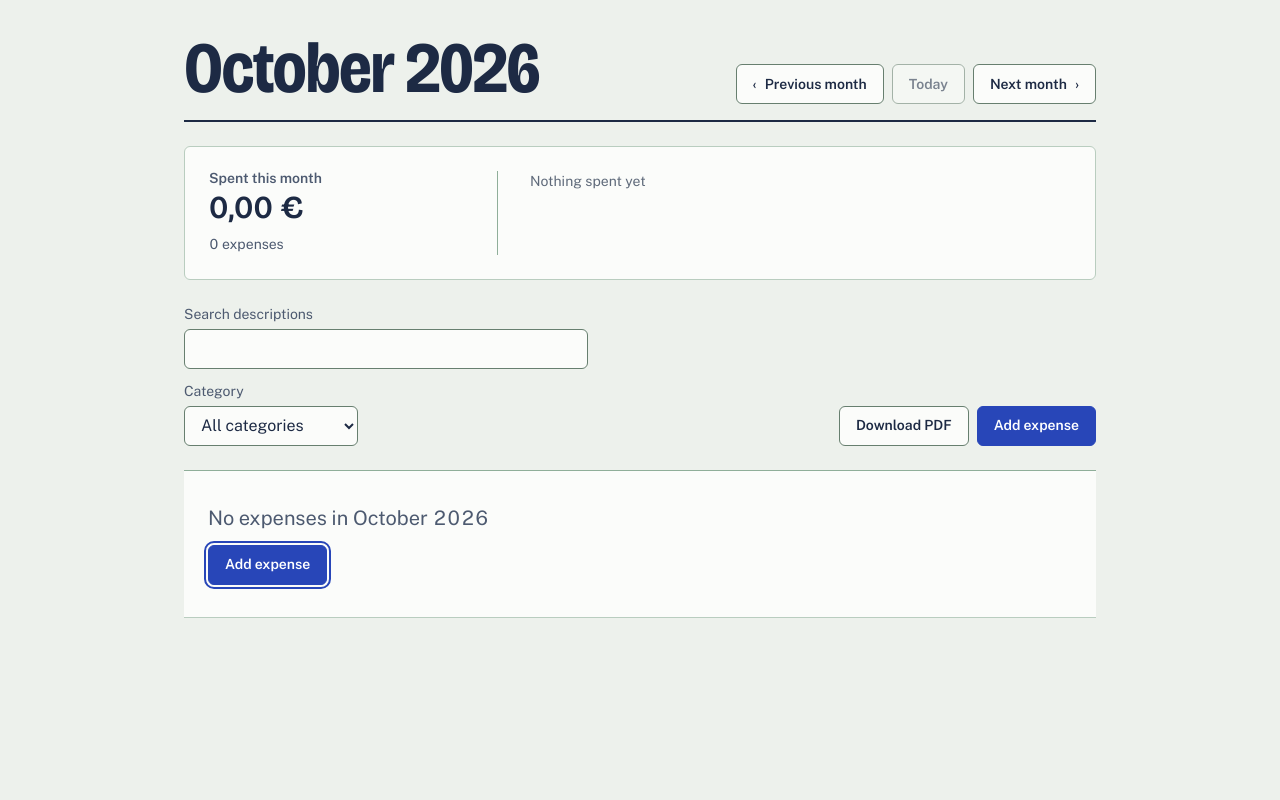
Scenario: moves focus to the Expenses section when a save from the empty month's Add expense fills the list
Expected: the text "No expenses in October 2026" is shown, [208,503,489,533]
Click the button "Add expense" below "No expenses in" at x=268, y=565, box [208,545,327,585]
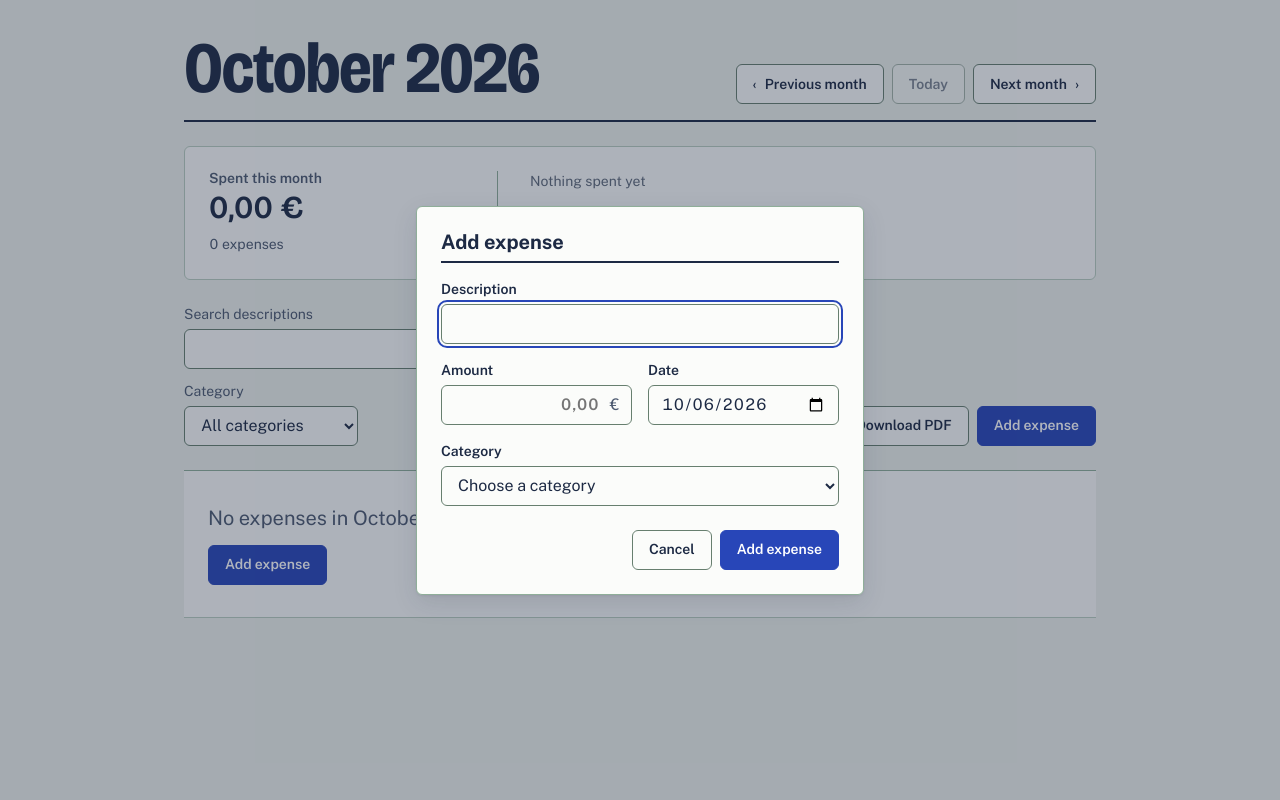
Type "Bakery" into the field labelled "Description" at x=640, y=324, box [441,304,839,344]
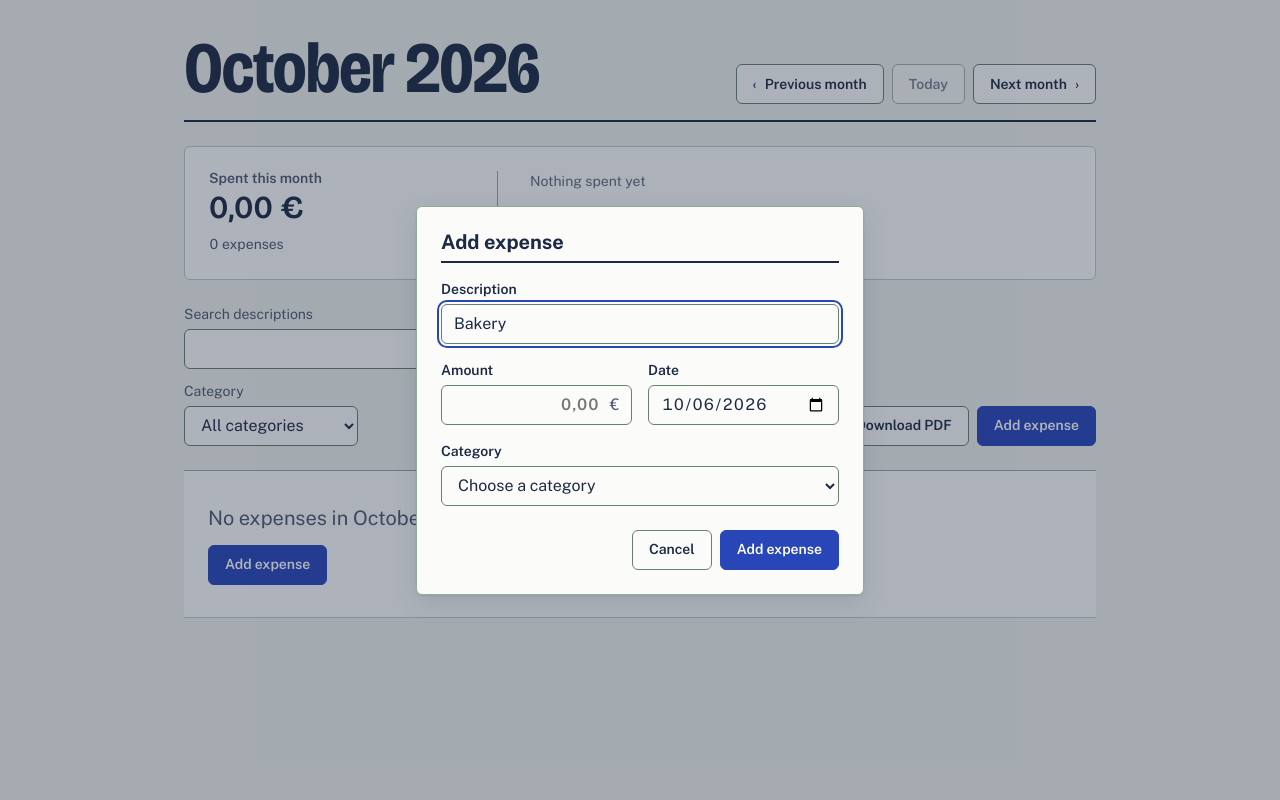
Type "3,80" into the field labelled "Amount" at x=536, y=404, box [441,384,632,424]
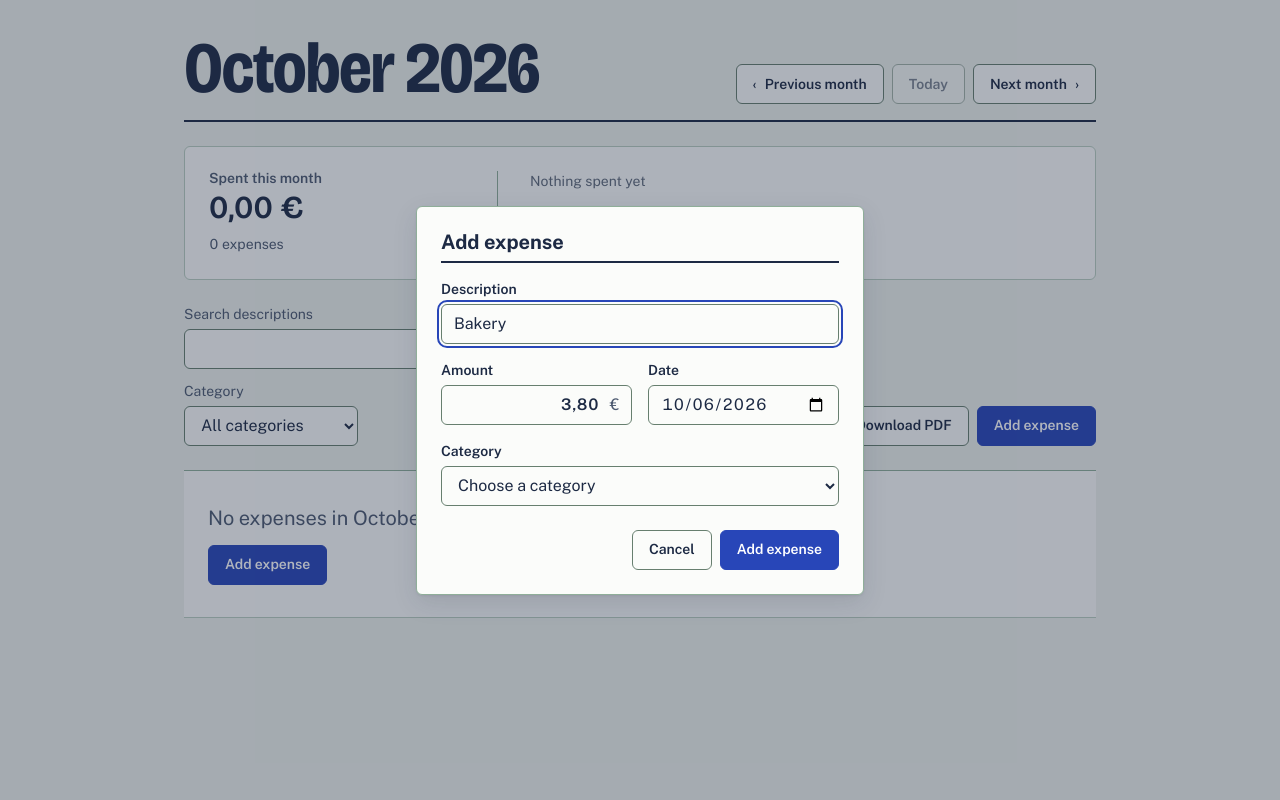
Select "Food & Groceries" in the dropdown labelled "Category" at x=640, y=486, box [441,466,839,506]
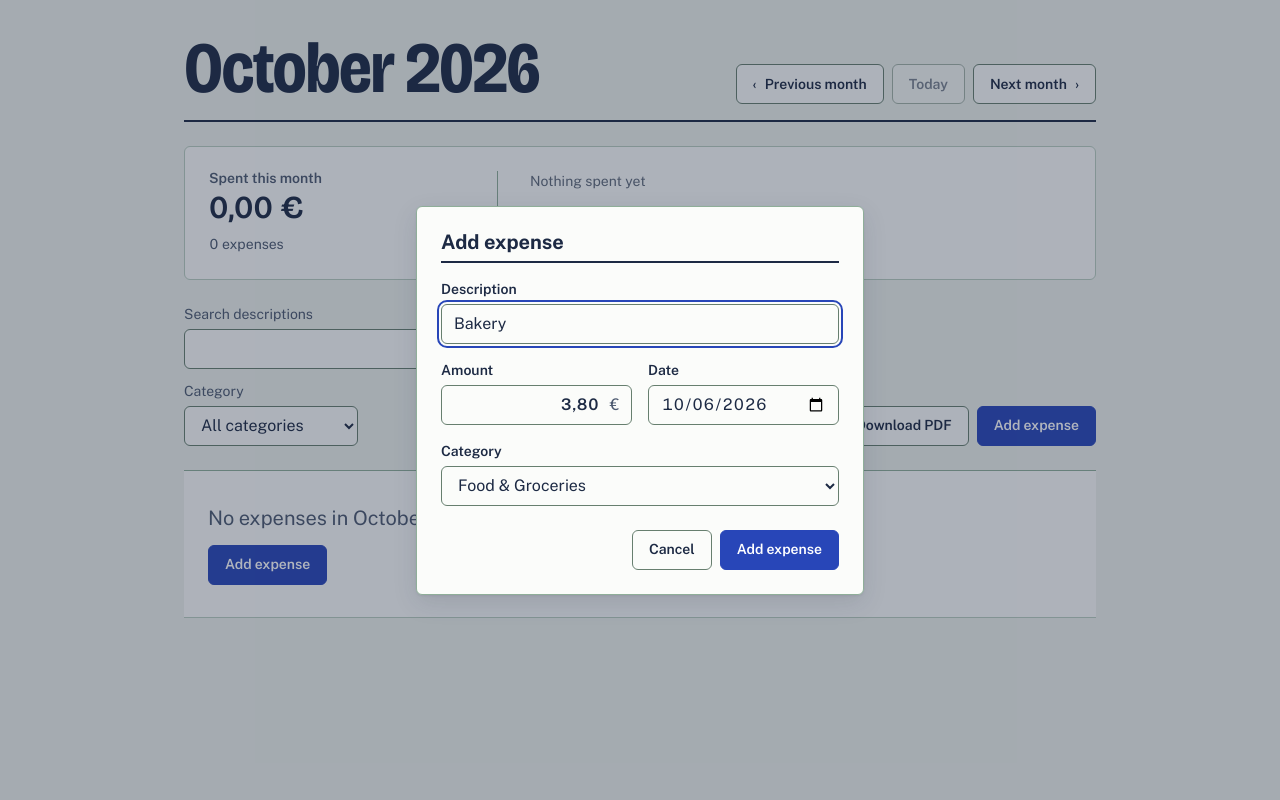
Click the button "Add expense" at x=779, y=550, box [720,530,839,570]
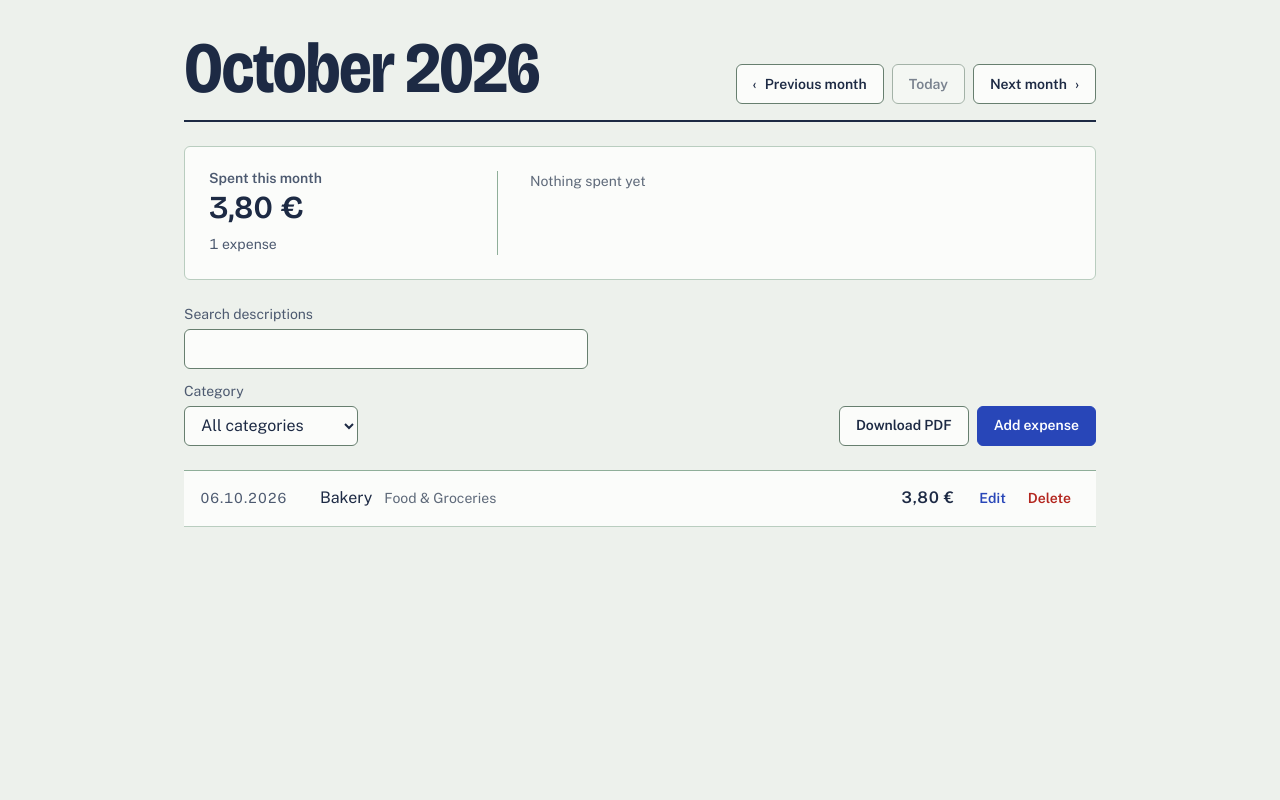
Expected: the text "Bakery" is shown, [320,486,372,510]
Expected: the dialog is gone
